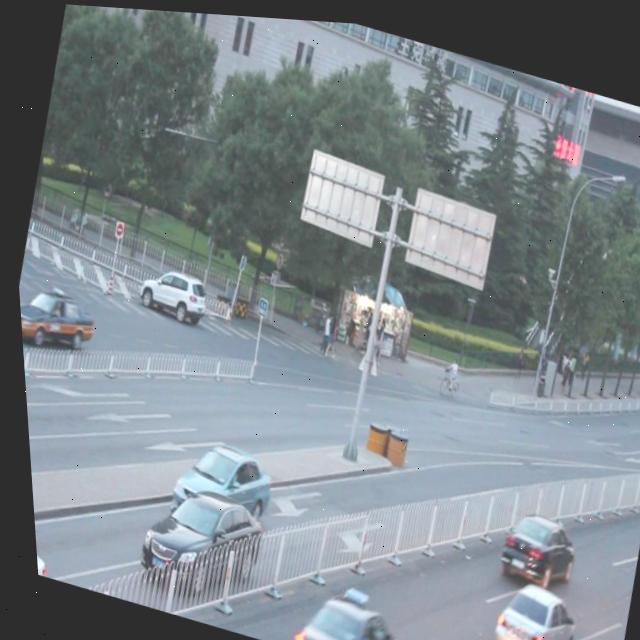car: (123, 475, 265, 600), (159, 427, 274, 530), (276, 573, 401, 640), (485, 494, 575, 585), (471, 566, 575, 640), (14, 275, 96, 359), (130, 257, 209, 326), (27, 515, 50, 577)
